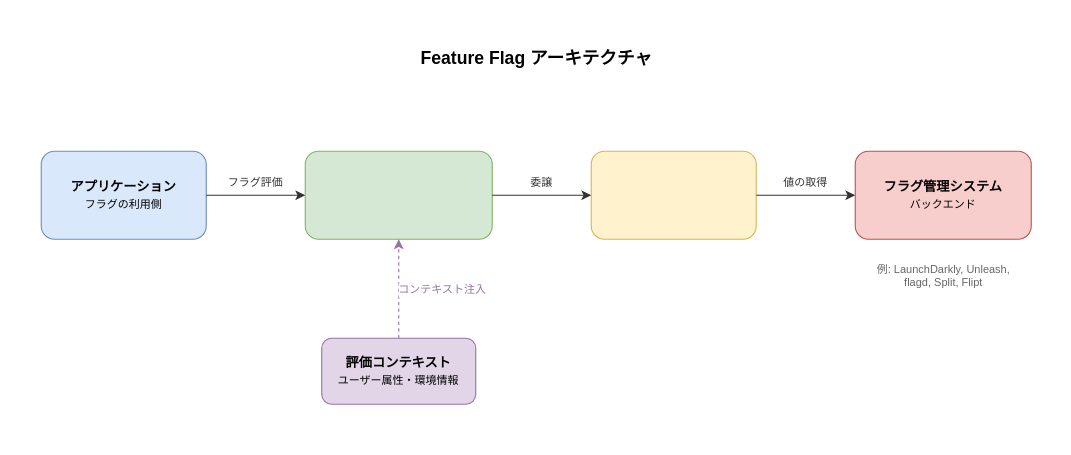
The diagram is 1071 pixels wide and 455 high, and some of its shapes have lost their labels. The centre of each missing label's shape, as x and y in pixels:
"OpenFeature SDK ベンダー非依存 API" belongs at point (398, 194).
"プロバイダー アダプター" belongs at point (673, 194).
